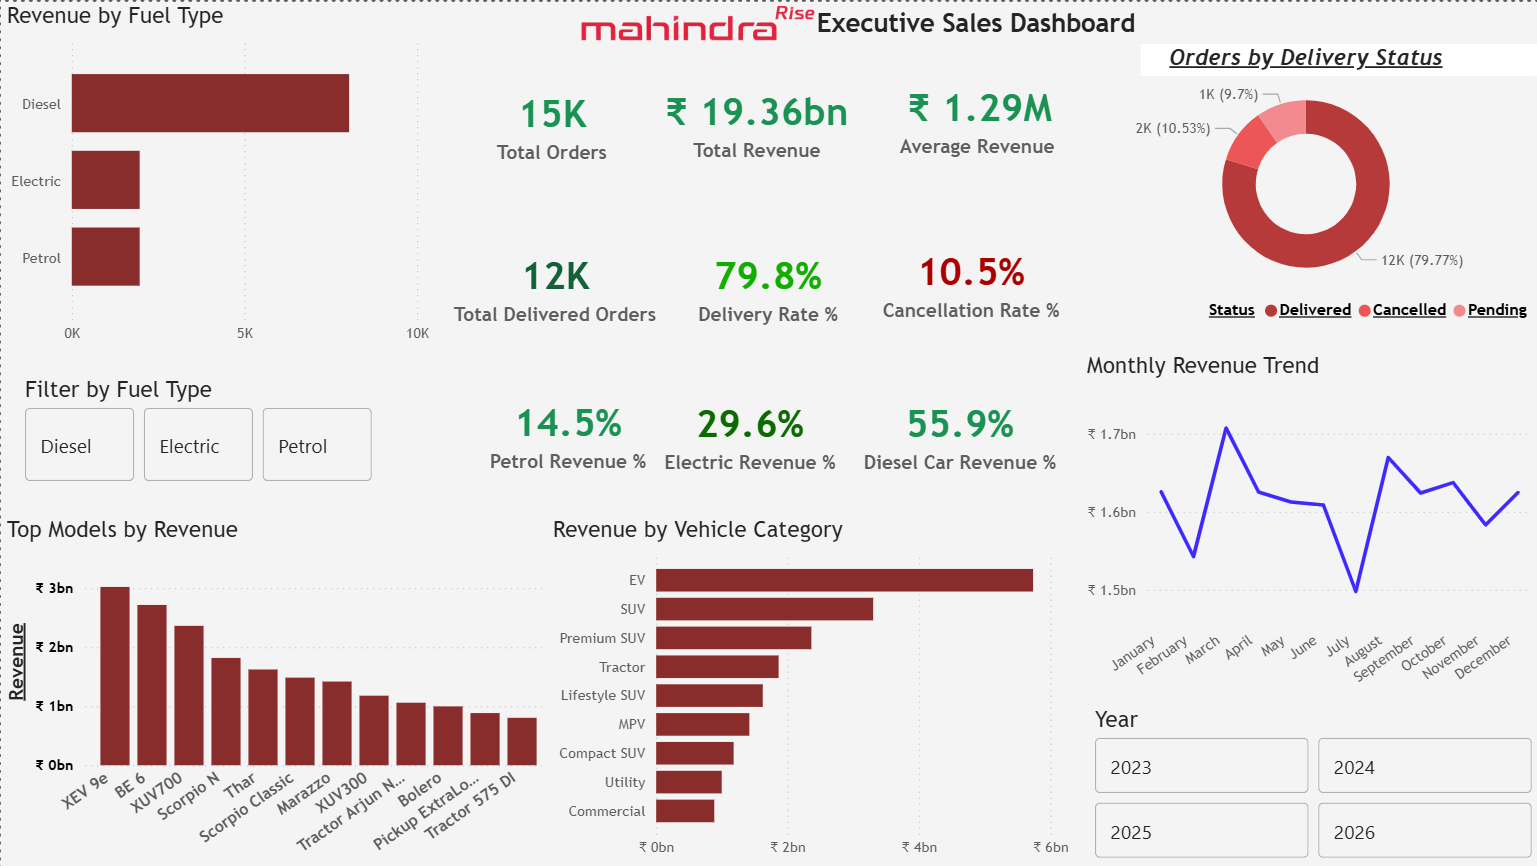

The page's visual inventory and layout, read from the dashboard file:
{"tool":"powerbi","page":{"name":"EXECUTIVE OVERVIEW","canvas":[1280,720],"ordinal":0},"visuals":[{"type":"lineChart","title":"Monthly Revenue Trend","fields":{"Category":["orders.order_date.Variation.Date Hierarchy.Month"],"Y":["orders.Total Revenue"]},"box":[900,291.7,380,296.7],"z":0},{"type":"advancedSlicerVisual","fields":{"Values":["orders.order_date.Variation.Date Hierarchy.Year"]},"box":[906.9,587,374,133],"z":1000},{"type":"donutChart","title":"Orders by Delivery Status","fields":{"Category":["orders.order_status"],"Y":["orders.Total Orders"]},"box":[893.3,34.9,388.2,241.1],"z":2000},{"type":"clusteredColumnChart","title":"Top Models by Revenue","fields":{"Y":["orders.Total Revenue"],"Category":["vehicles.model_name"]},"box":[0,427.7,464.1,292.7],"z":3000},{"type":"textbox","box":[448.3,0,501.7,63.3],"z":4000},{"type":"image","box":[483.3,3.3,195,28.3],"z":5000},{"type":"clusteredBarChart","title":"Revenue by Fuel Type","fields":{"Category":["vehicles.fuel_type"],"Y":["dealerships.Total Sales"]},"box":[0,0,361.7,291.7],"z":6000},{"type":"clusteredBarChart","title":"Revenue by Vehicle Category","fields":{"Y":["orders.Total Revenue"],"Category":["vehicles.vehicle_category"]},"box":[455.1,428,439.6,292.2],"z":7000},{"type":"card","fields":{"Values":["dealerships.Delivery %"]},"box":[561.7,161.7,155,150],"z":8000},{"type":"card","fields":{"Values":["dealerships.Cancellation Rate %"]},"box":[716.7,155,183.3,156.7],"z":9000},{"type":"card","fields":{"Values":["dealerships.EV Revenue %"]},"box":[543.3,311.7,161.7,96.7],"z":10000},{"type":"card","fields":{"Values":["orders.Total Orders"]},"box":[375,38.3,168.3,126.7],"z":11000},{"type":"card","fields":{"Values":["orders.Total Revenue"]},"box":[543.3,38.3,173.3,123.3],"z":12000},{"type":"card","fields":{"Values":["orders.Average Revenue Per Order"]},"box":[725,35,181.7,123.3],"z":13000},{"type":"card","fields":{"Values":["orders.Total Delivered Orders"]},"box":[361.7,161.7,200,150],"z":14000},{"type":"card","fields":{"Values":["orders.Xev9e Revenue %"]},"box":[703.3,311.7,191.7,96.7],"z":15000},{"type":"card","fields":{"Values":["orders.Petrol Revenue %"]},"box":[401.7,305,141.7,108.3],"z":16000},{"type":"advancedSlicerVisual","fields":{"Values":["vehicles.fuel_type"]},"box":[15,311.7,300,93.3],"z":17000}]}

Visuals, with their boxes in screenshot pixels (x1, y1, x2, y2), scaled from the page's 1280x720 canvas onto the 1537x866 screenshot:
"Monthly Revenue Trend" lineChart: [x1=1081, y1=351, x2=1536, y2=708]
advancedSlicerVisual - orders.order_date.Variation.Date Hierarchy.Year: [x1=1089, y1=706, x2=1536, y2=865]
"Orders by Delivery Status" donutChart: [x1=1073, y1=42, x2=1536, y2=332]
"Top Models by Revenue" clusteredColumnChart: [x1=0, y1=514, x2=557, y2=865]
textbox: [x1=538, y1=0, x2=1141, y2=76]
image: [x1=580, y1=4, x2=814, y2=38]
"Revenue by Fuel Type" clusteredBarChart: [x1=0, y1=0, x2=434, y2=351]
"Revenue by Vehicle Category" clusteredBarChart: [x1=546, y1=515, x2=1074, y2=865]
card - dealerships.Delivery %: [x1=674, y1=194, x2=861, y2=375]
card - dealerships.Cancellation Rate %: [x1=861, y1=186, x2=1081, y2=375]
card - dealerships.EV Revenue %: [x1=652, y1=375, x2=847, y2=491]
card - orders.Total Orders: [x1=450, y1=46, x2=652, y2=198]
card - orders.Total Revenue: [x1=652, y1=46, x2=860, y2=194]
card - orders.Average Revenue Per Order: [x1=871, y1=42, x2=1089, y2=190]
card - orders.Total Delivered Orders: [x1=434, y1=194, x2=674, y2=375]
card - orders.Xev9e Revenue %: [x1=845, y1=375, x2=1075, y2=491]
card - orders.Petrol Revenue %: [x1=482, y1=367, x2=653, y2=497]
advancedSlicerVisual - vehicles.fuel_type: [x1=18, y1=375, x2=378, y2=487]
